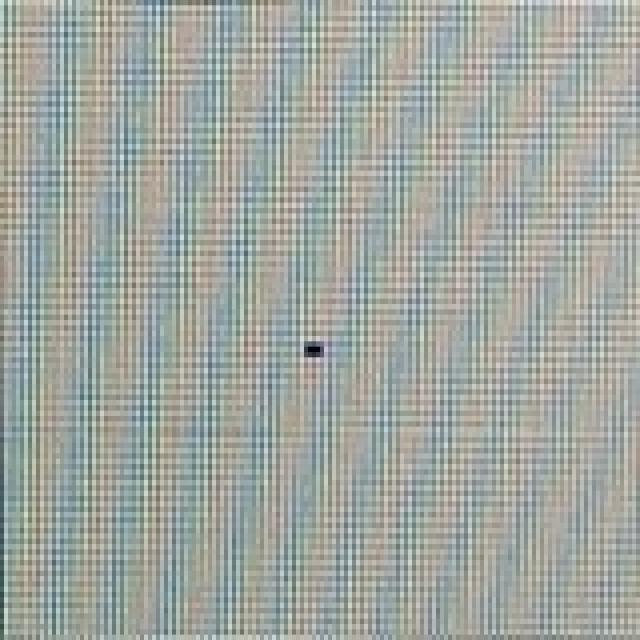Dead pixel: (304, 341, 324, 357)
